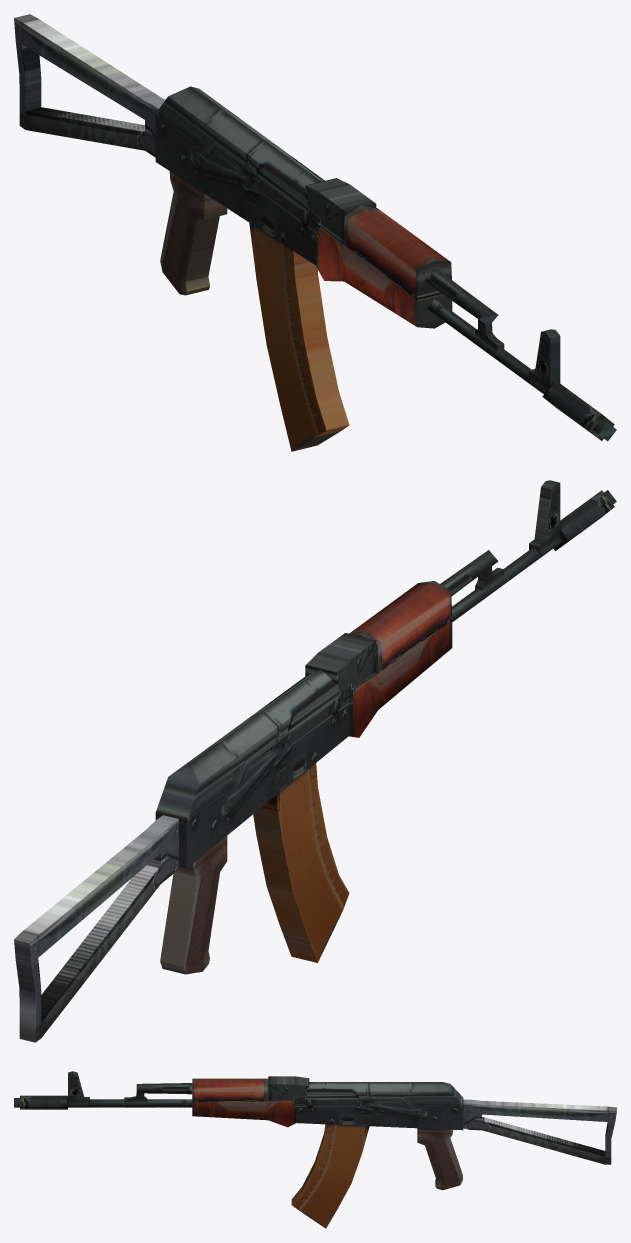
Rendered from AKS74.FBX.
The picture shows the model from 3 angles, top to bottom: view 1: azimuth 30°, elevation 25°; view 2: azimuth 150°, elevation 25°; view 3: azimuth 270°, elevation 25°; orthographic projection. The views are drawn at different scales.
Visible parts, largest first — view 1: AKS74; view 2: AKS74; view 3: AKS74.
Part boxes in pixels (box(x1,y1,x2,y2)): AKS74: box(14, 14, 616, 451); AKS74: box(14, 480, 616, 1042); AKS74: box(14, 1071, 616, 1228).
Size of the model in its own units: 1.19 by 9.64 by 34.44.
